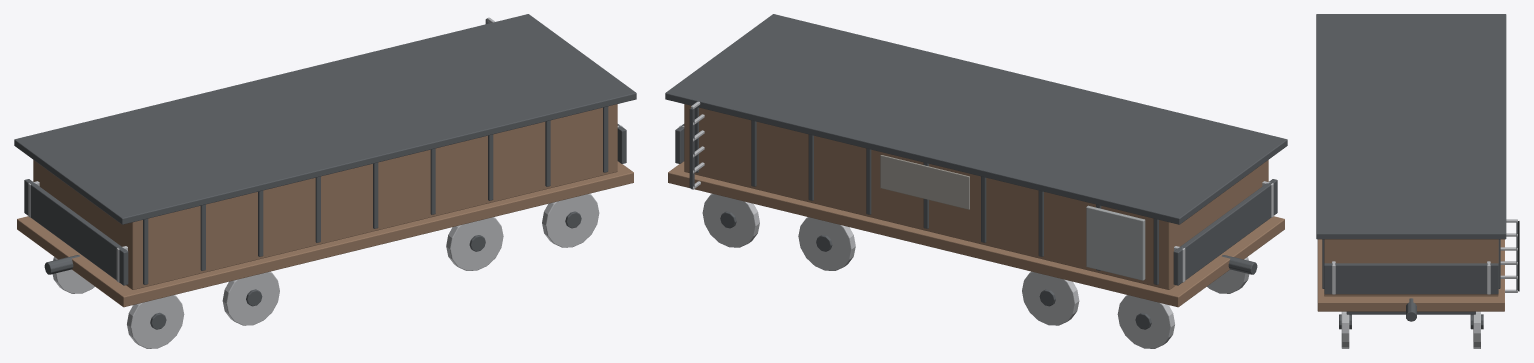
The model's file is rail_wagon_8.fbx.
The picture shows the model from 3 angles, left to right: view 1: azimuth 30°, elevation 25°; view 2: azimuth 150°, elevation 25°; view 3: azimuth 270°, elevation 25°; orthographic projection. The views are drawn at different scales.
Parts seen in each view (by area): view 1: rail_wagon_8; view 2: rail_wagon_8; view 3: rail_wagon_8.
Part boxes in pixels (x1,y1,x2,y2): rail_wagon_8: [14, 14, 636, 348]; rail_wagon_8: [665, 14, 1287, 348]; rail_wagon_8: [1316, 14, 1519, 348].
Bounding box in the file's own units: 8.7 × 2.29 × 3.14.
